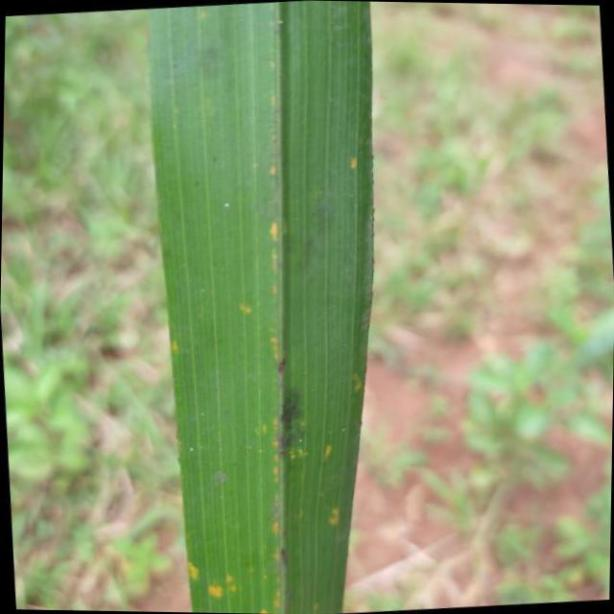Kalium: (149, 0, 374, 614)
